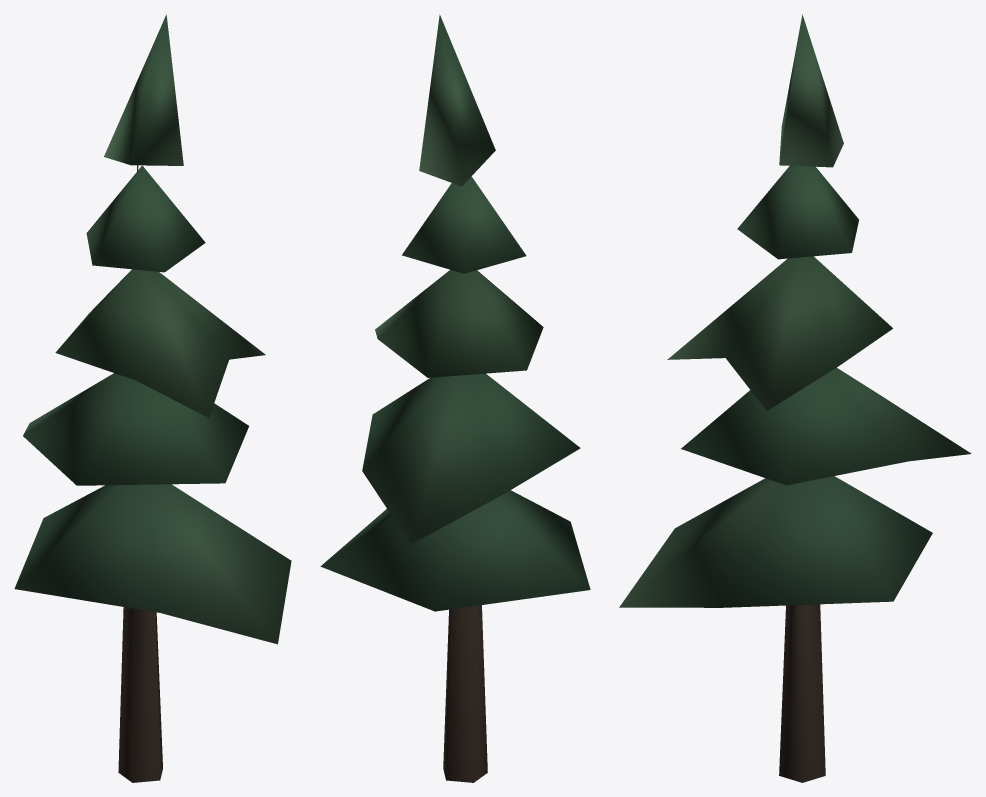
Rendered from tree.glb.
3 renders of one model, left to right at view 1: azimuth 30°, elevation 25°; view 2: azimuth 150°, elevation 25°; view 3: azimuth 270°, elevation 25°, orthographic. The views are drawn at different scales.
Parts seen in each view (by area): view 1: tree; view 2: tree; view 3: tree.
Boxes of the visible parts, left/top/right/bottom form: tree: left=14, top=14, right=291, bottom=782; tree: left=320, top=14, right=590, bottom=782; tree: left=619, top=14, right=971, bottom=782.
Size of the model in its own units: 3.43 by 10.4 by 4.32.
